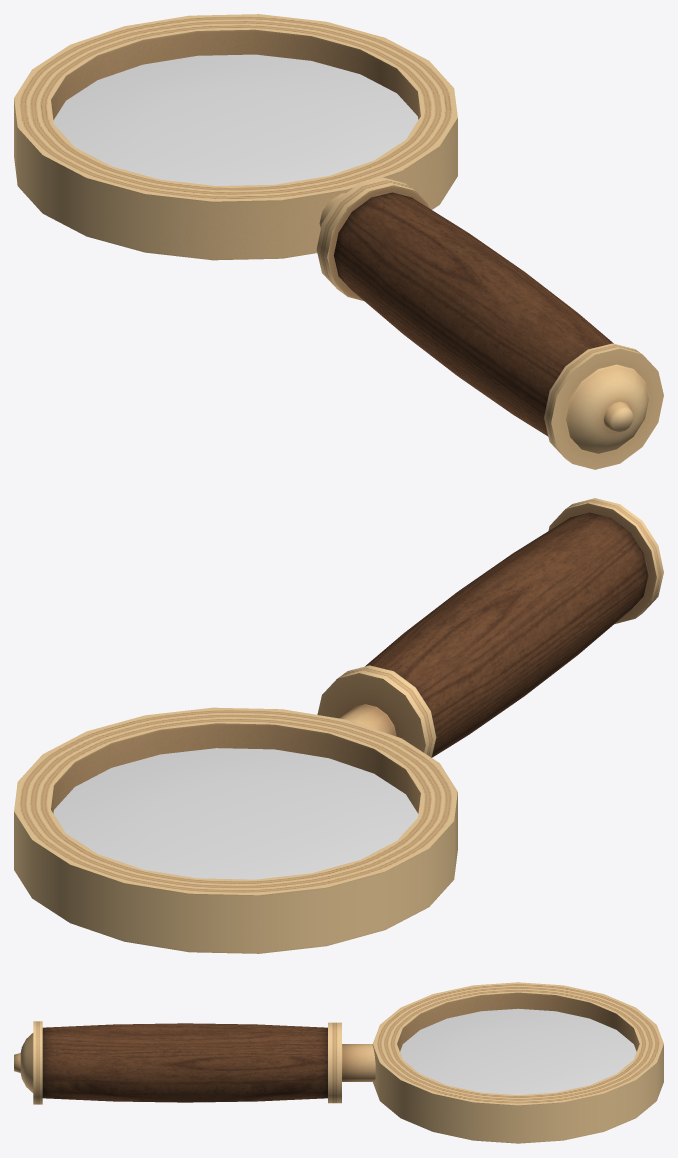
Rendered from magnifying_glass_01.fbx.
The picture shows the model from 3 angles, top to bottom: view 1: azimuth 30°, elevation 25°; view 2: azimuth 150°, elevation 25°; view 3: azimuth 270°, elevation 25°; orthographic projection. The views are drawn at different scales.
Visible parts, largest first — view 1: magnifying_glass_01; view 2: magnifying_glass_01; view 3: magnifying_glass_01.
Boxes of the visible parts, <box> form: magnifying_glass_01: <box>14,14,663,469</box>; magnifying_glass_01: <box>14,498,663,953</box>; magnifying_glass_01: <box>14,982,663,1143</box>.
Bounding box in the file's own units: 31.6 × 9 × 70.53.
